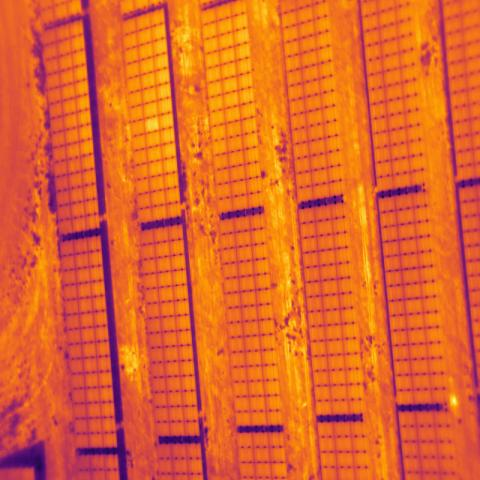fault: (144, 116, 160, 134)
